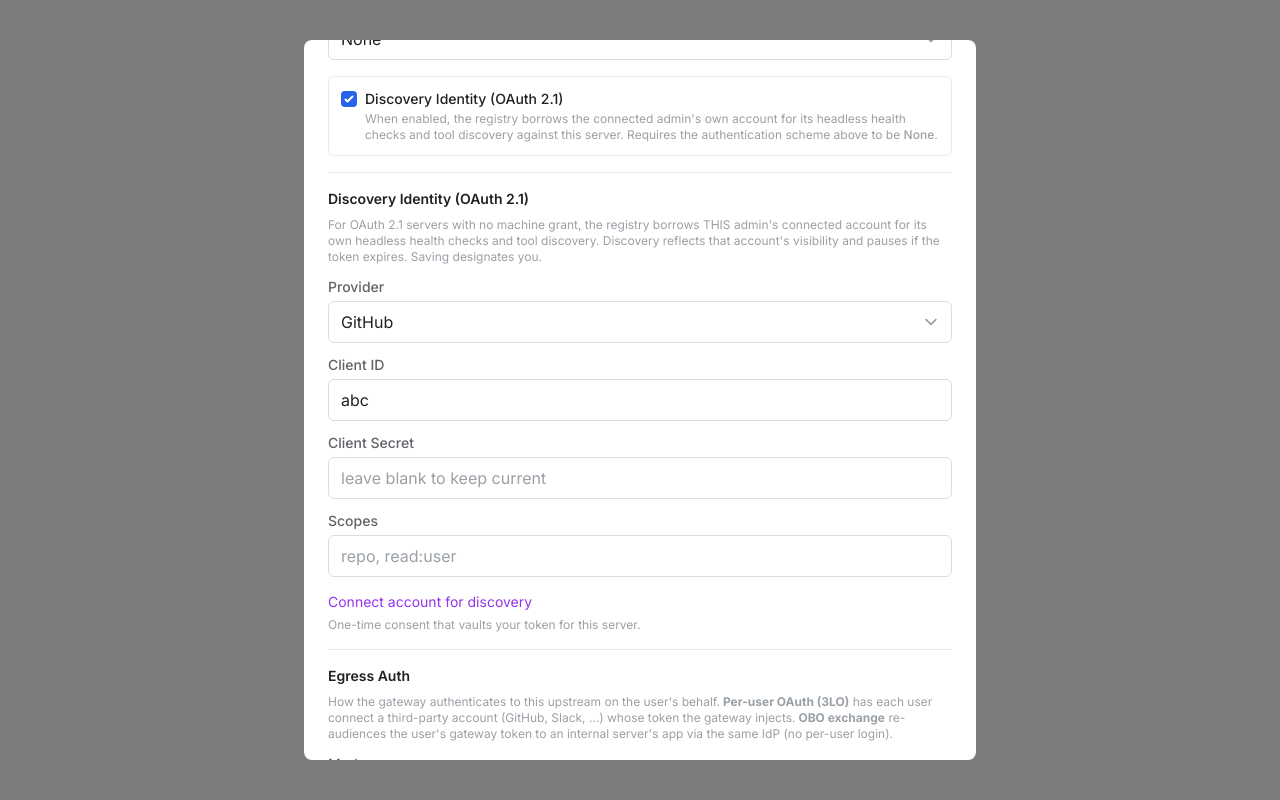
Test: ServerEditModal › enables discovery Connect for a saved config but disables it on unsaved edits
(page scrolled)
Check: the button "Connect account for discovery" is enabled, box [328,592,532,612]
Replace the text in the field showing "abc" with "xyz" at (640, 400), box [328,379,952,421]
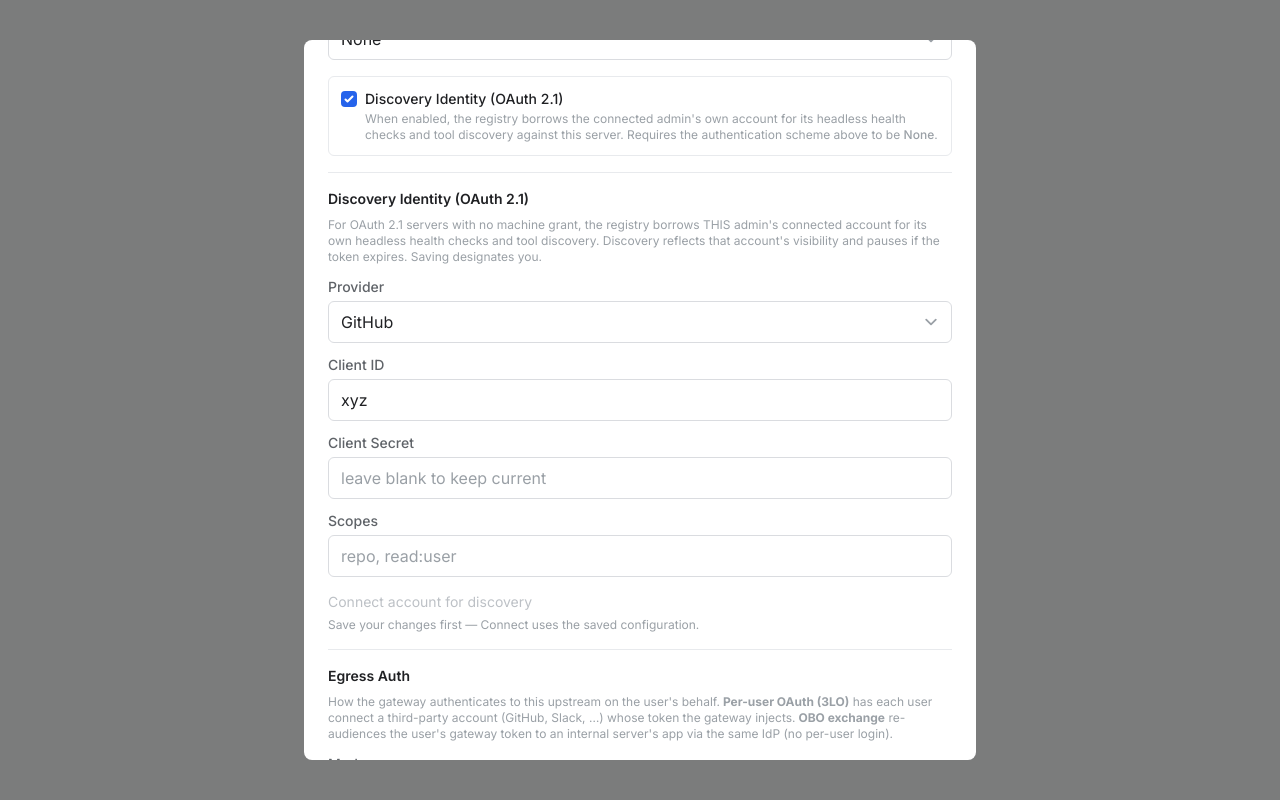
Check: the button "Connect account for discovery" is disabled, box [328,592,532,612]
